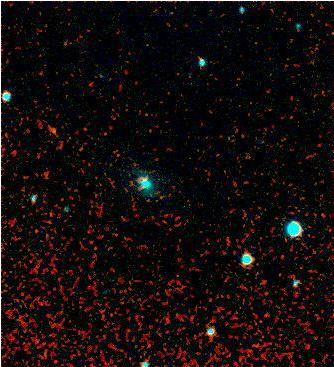star: (37, 114, 67, 144)
